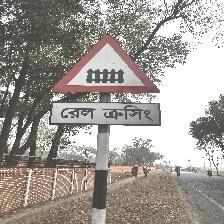Rail-crossing: (49, 34, 163, 128)
